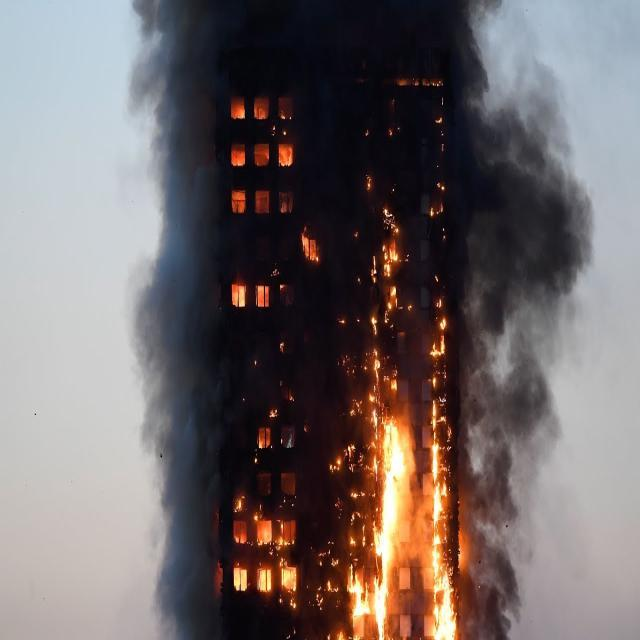Fire: (222, 89, 456, 640)
Smoke: (457, 87, 599, 640), (125, 0, 222, 638), (225, 0, 568, 85)
